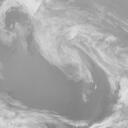cyclone: (41, 19, 111, 84)
